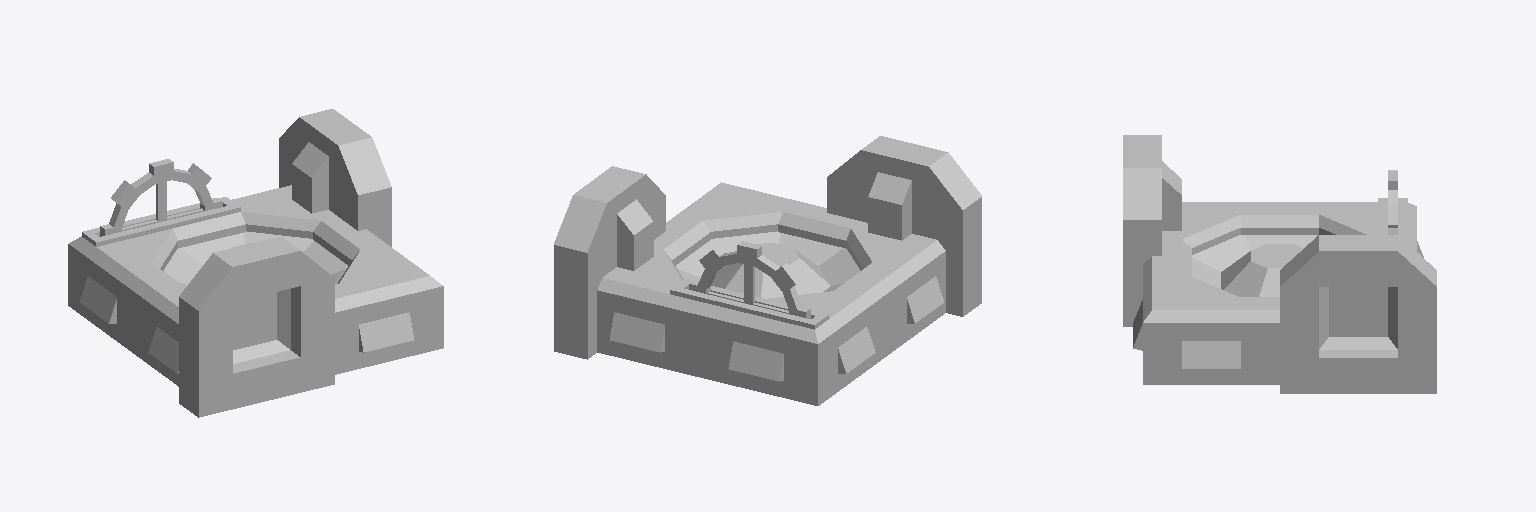
The model's file is centrifuge_inventory.obj.
3 views of the same model, side by side, from view 1: azimuth 30°, elevation 25°; view 2: azimuth 150°, elevation 25°; view 3: azimuth 270°, elevation 25° (orthographic).
Visible parts, largest first — view 1: CENTRIFUGE_BODY_Cube.013, CENTRIFUGE_COG_Cube.015, CENTRIFUGE_SPINNER_Cylinder.001; view 2: CENTRIFUGE_BODY_Cube.013, CENTRIFUGE_SPINNER_Cylinder.001, CENTRIFUGE_COG_Cube.015; view 3: CENTRIFUGE_BODY_Cube.013, CENTRIFUGE_SPINNER_Cylinder.001, CENTRIFUGE_COG_Cube.015.
Part boxes in pixels (bbox=[...]): CENTRIFUGE_BODY_Cube.013: bbox=[68, 109, 443, 417]; CENTRIFUGE_COG_Cube.015: bbox=[100, 159, 221, 236]; CENTRIFUGE_SPINNER_Cylinder.001: bbox=[164, 231, 347, 286]; CENTRIFUGE_BODY_Cube.013: bbox=[554, 136, 981, 405]; CENTRIFUGE_SPINNER_Cylinder.001: bbox=[676, 231, 859, 298]; CENTRIFUGE_COG_Cube.015: bbox=[689, 241, 810, 318]; CENTRIFUGE_BODY_Cube.013: bbox=[1123, 135, 1436, 393]; CENTRIFUGE_SPINNER_Cylinder.001: bbox=[1192, 235, 1317, 296]; CENTRIFUGE_COG_Cube.015: bbox=[1388, 170, 1397, 234].
Size of the model in its own units: 2 by 1 by 2.